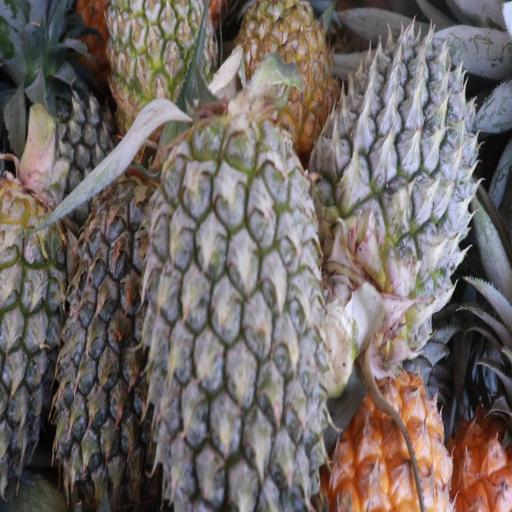------------------------------: (110, 0, 215, 124)
Pineapple - v8 v1: (329, 370, 456, 512), (234, 0, 336, 146)
